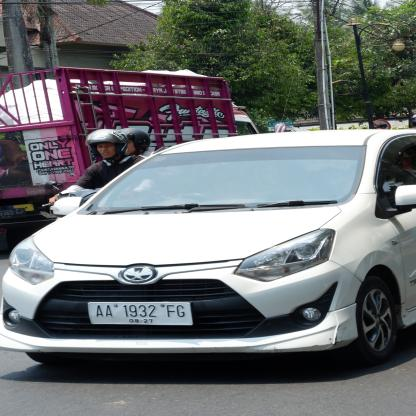Plat-Nomor: (83, 300, 196, 328)
